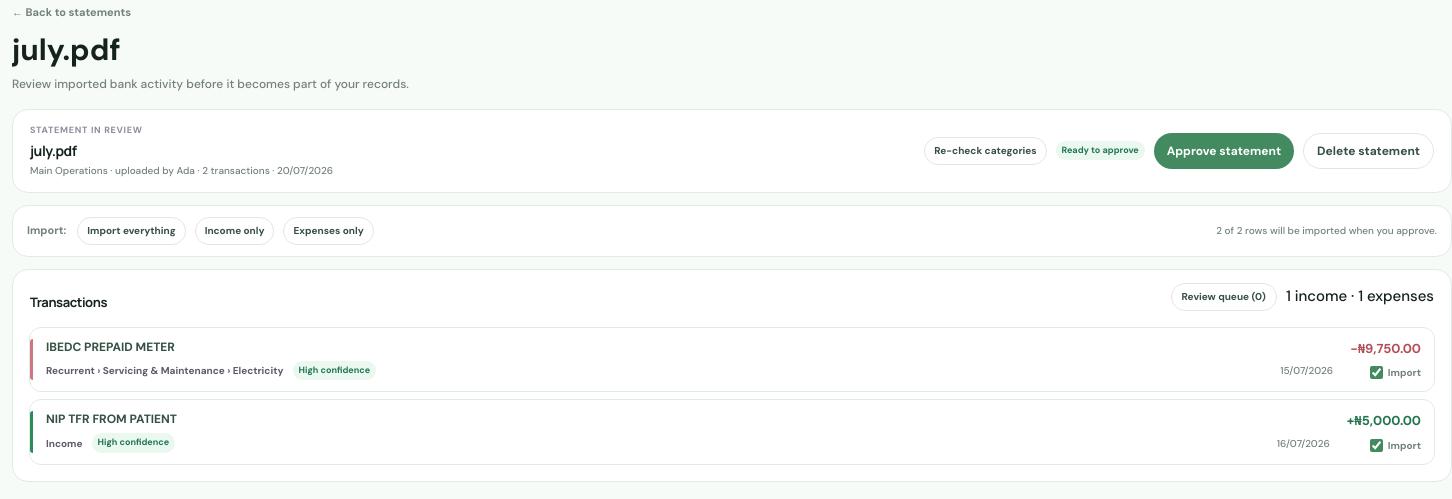
Test: approving shows a loading state until the request finishes
Step 1. Click the button "Approve statement" → point(1224, 150), box left=1154, top=132, right=1294, bottom=168
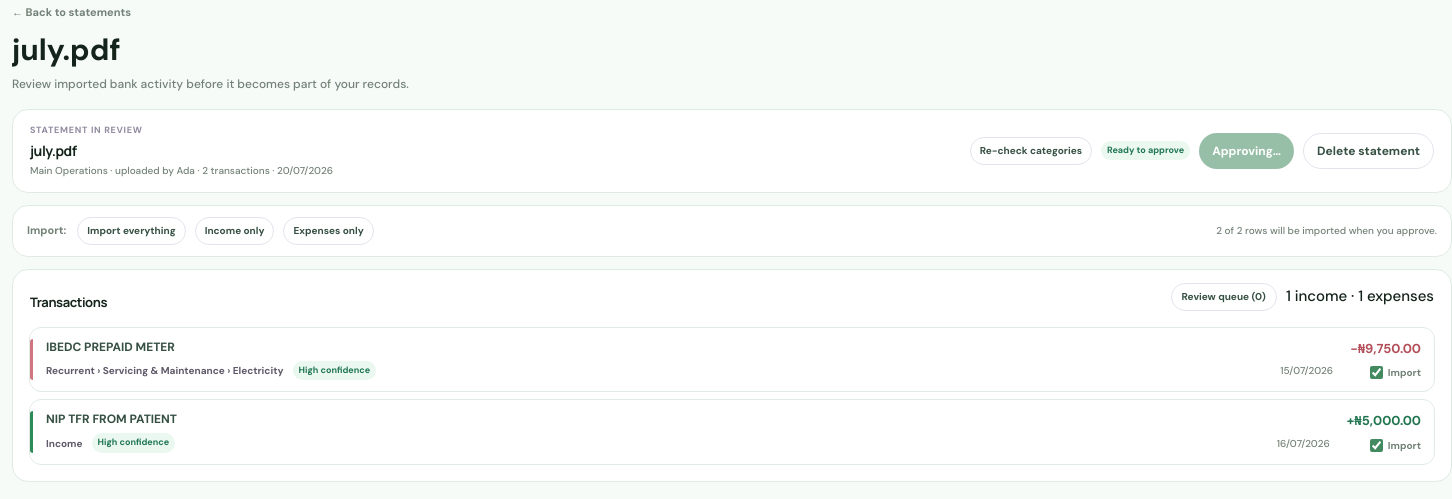
Expected: the button "Approving…" is disabled, left=1199, top=132, right=1294, bottom=168
